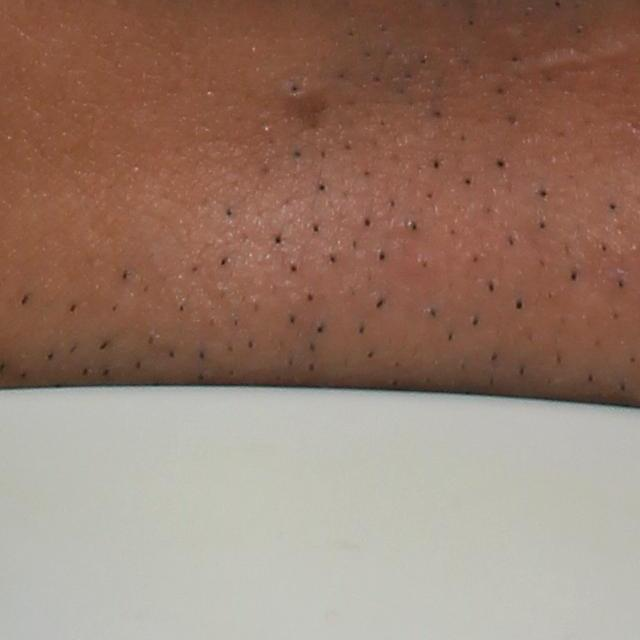hypertrophic_scar: (521, 36, 634, 83)
